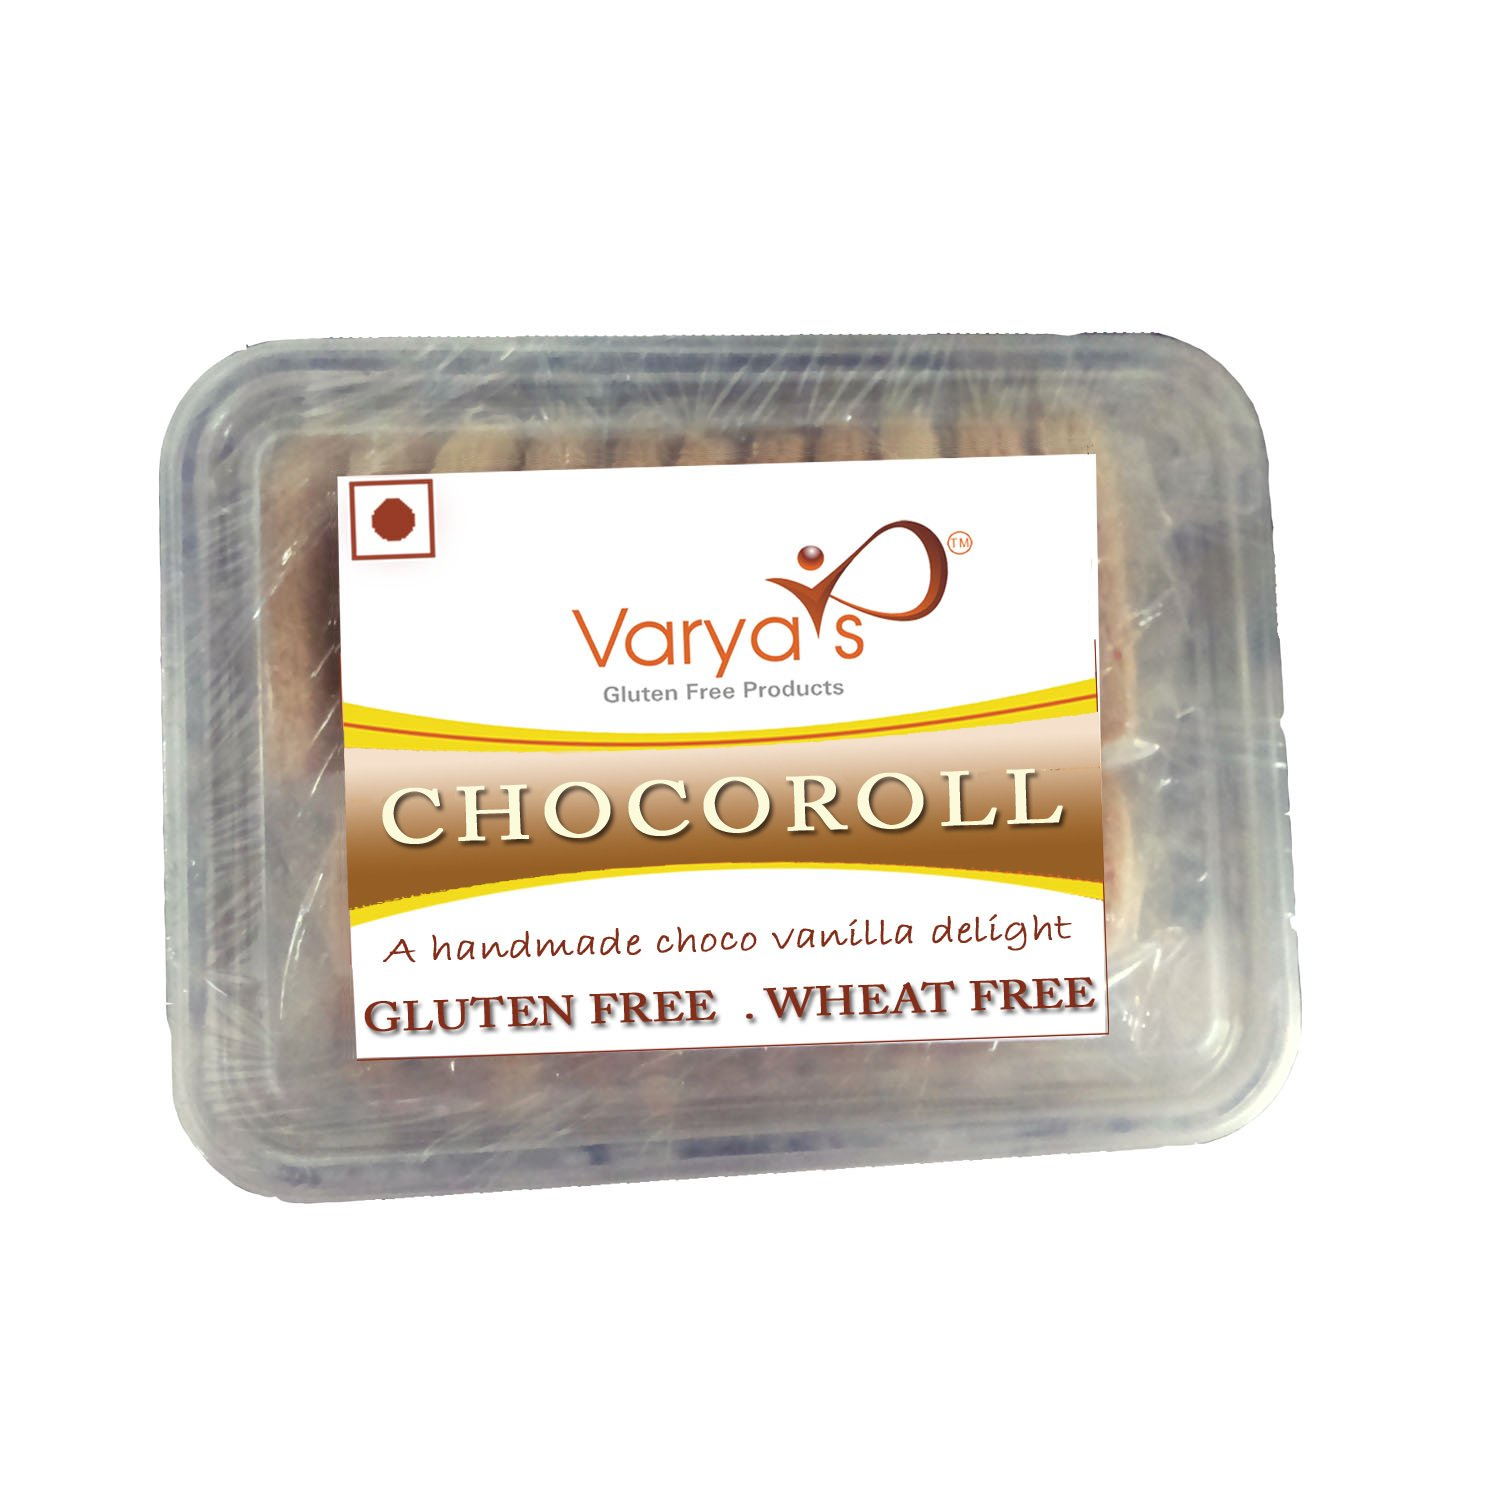nonveg_red: (348, 478, 435, 560)
